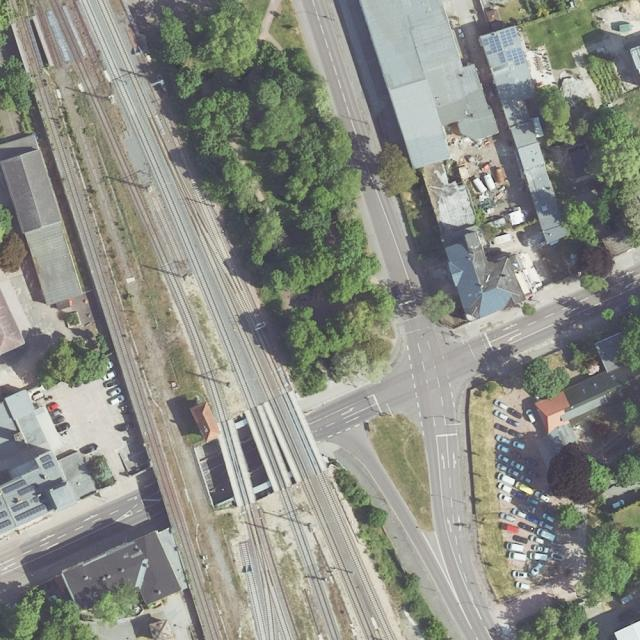PV: (482, 26, 526, 66), (0, 502, 50, 530), (0, 501, 28, 519), (3, 478, 26, 493), (18, 483, 38, 496), (40, 454, 54, 470)
